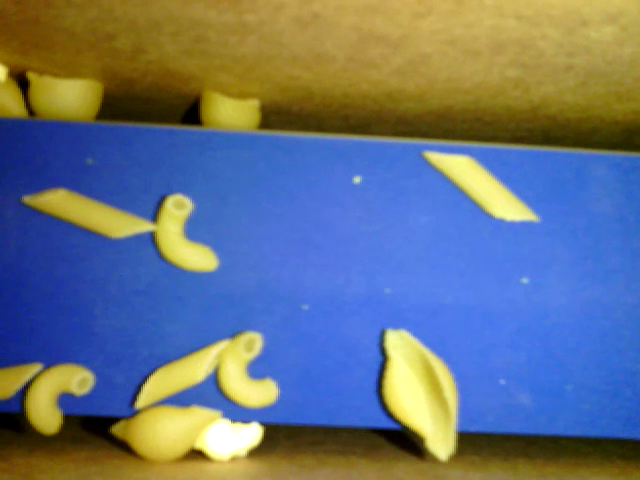elbow: (23, 361, 95, 435), (155, 191, 219, 273), (219, 330, 279, 408)
penne: (424, 150, 538, 225), (20, 188, 159, 240), (133, 339, 230, 410)
shell: (380, 325, 459, 462), (109, 401, 224, 463), (25, 70, 102, 120), (199, 89, 263, 130), (1, 362, 45, 398)
